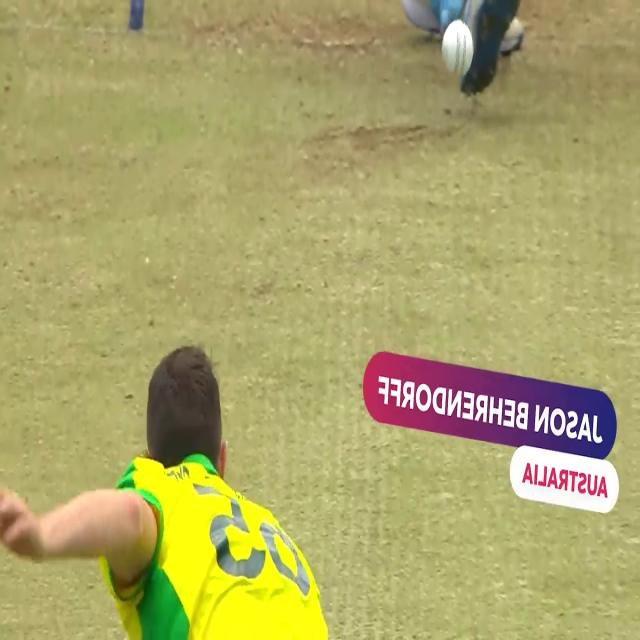ball: (438, 13, 480, 78)
